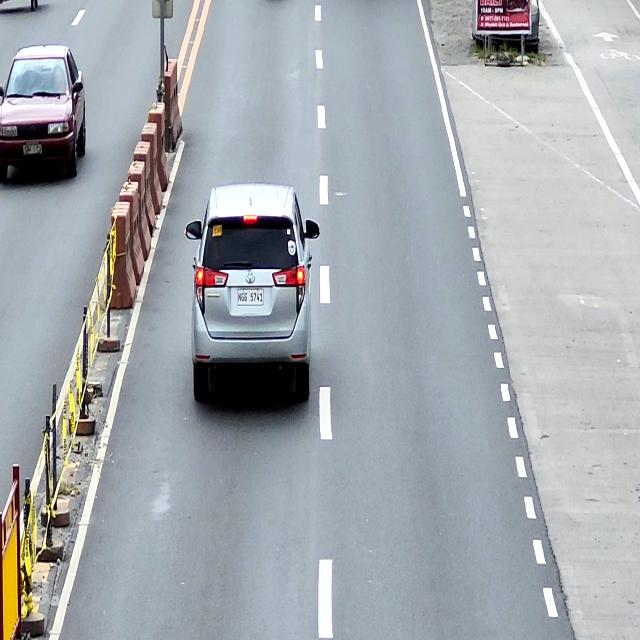Car: (185, 184, 319, 404), (0, 44, 86, 185)
License-Plate: (237, 288, 263, 306), (23, 144, 43, 156)
